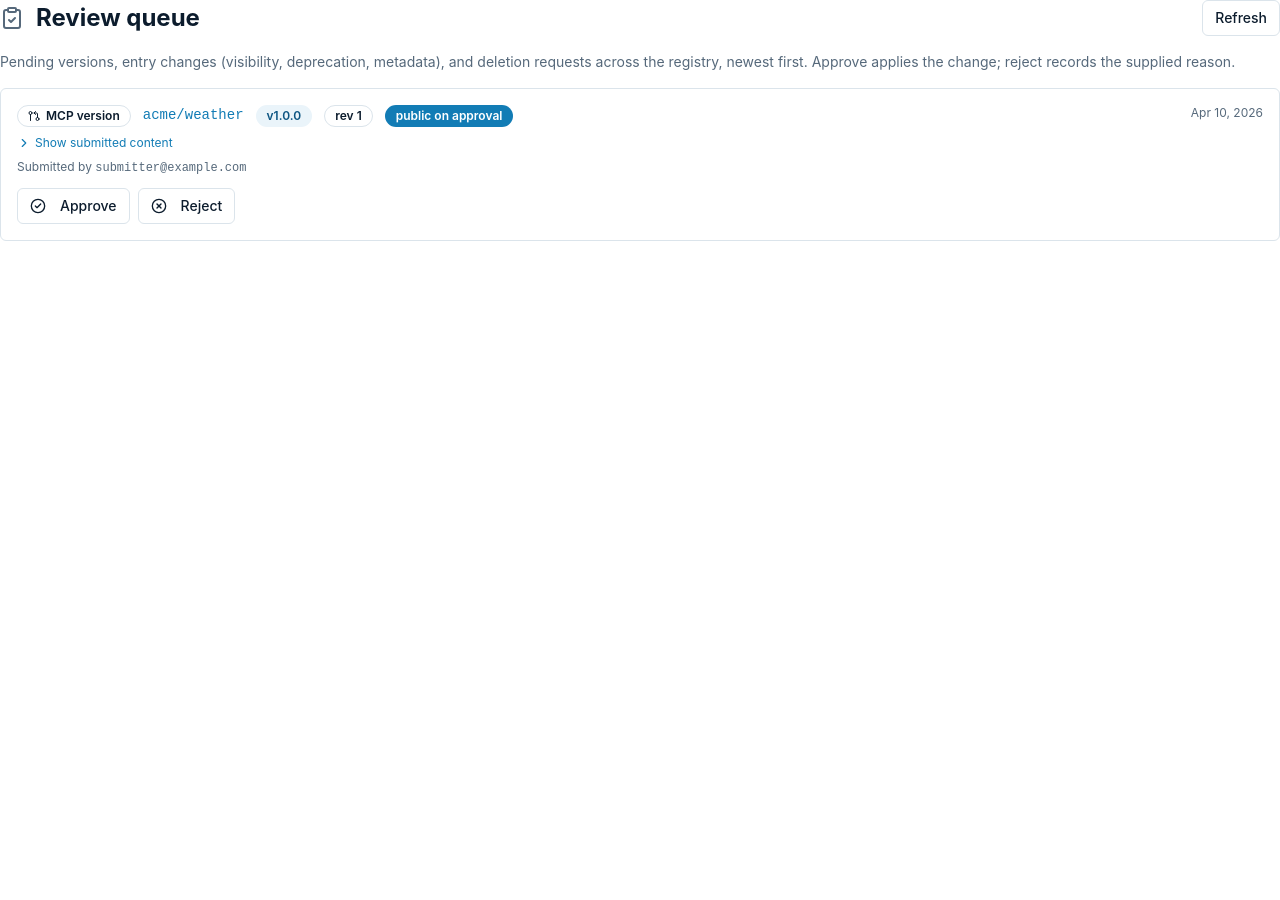
Test: AdminReviewQueue › flags a version that will go public on approval, in the row and the confirm
Expected: the text "public on approval" is shown, [385, 105, 513, 127]
# The approve confirm spells out the bigger blast radius.
Click the button "Approve".
click(73, 206)  # box [17, 188, 130, 224]
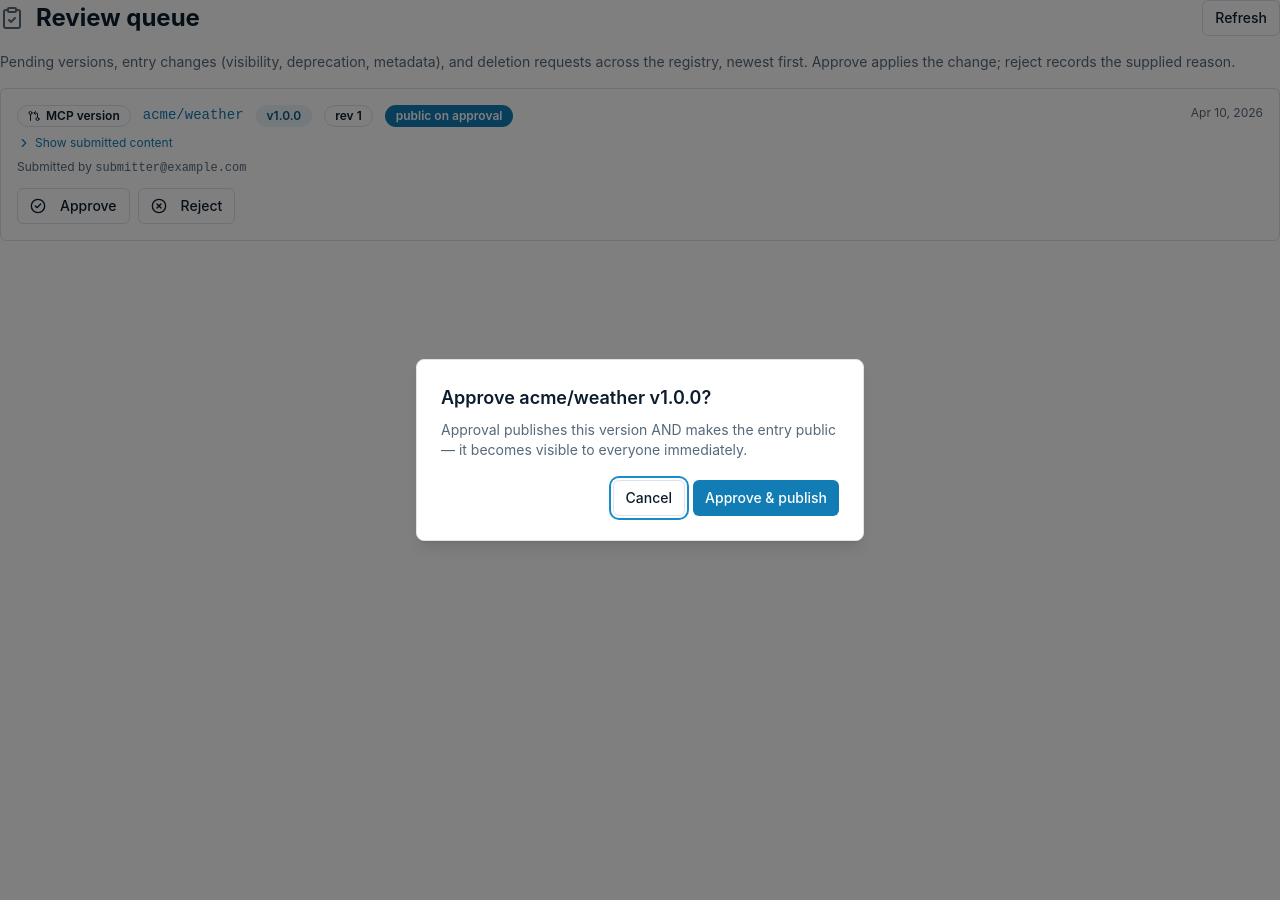
Result: the text "makes the entry public" is shown at [441, 421, 836, 458]
